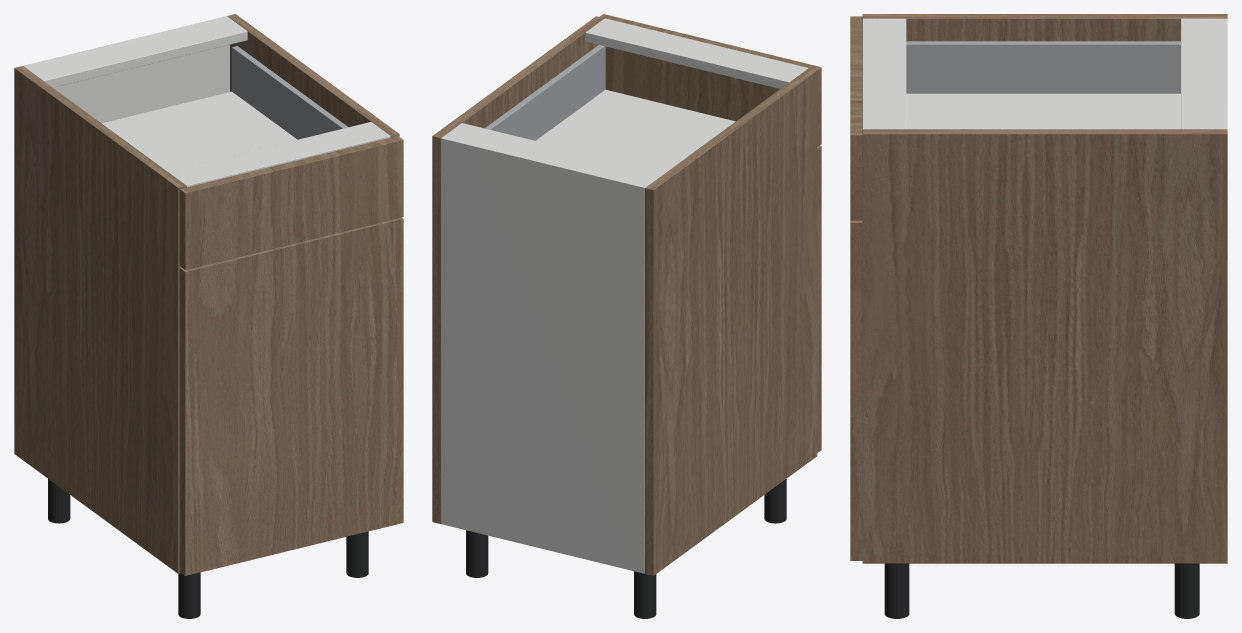
File: oppein-pb-mnw-b18.glb
The picture shows the model from 3 angles, left to right: view 1: azimuth 30°, elevation 25°; view 2: azimuth 150°, elevation 25°; view 3: azimuth 270°, elevation 25°; orthographic projection. The views are drawn at different scales.
Parts seen in each view (by area): view 1: Door, Cabinet side, Drawer front, Drawer floor, Cabinet back, Top support rail, Drawer side.001, Top support rail.001, Cabinet side.001, Adjustable foot.001, Adjustable foot.003, Adjustable foot; view 2: Cabinet back, Cabinet side, Drawer floor, Drawer front, Cabinet side.001, Top support rail.001, Drawer side.001, Top support rail, Cabinet bottom, Door, Adjustable foot, Adjustable foot.002 (+1 smaller); view 3: Cabinet side.001, Drawer side, Drawer floor, Cabinet side, Top support rail.001, Top support rail, Door, Drawer front, Adjustable foot.002, Adjustable foot.003, Cabinet back.
Boxes of the visible parts, x1=… form: Door: x1=179, y1=217, x2=403, y2=575; Cabinet side: x1=14, y1=66, x2=186, y2=573; Drawer front: x1=179, y1=136, x2=403, y2=269; Drawer floor: x1=102, y1=91, x2=297, y2=171; Cabinet back: x1=23, y1=16, x2=229, y2=123; Top support rail: x1=25, y1=18, x2=247, y2=87; Drawer side.001: x1=232, y1=46, x2=348, y2=139; Top support rail.001: x1=167, y1=122, x2=390, y2=187; Cabinet side.001: x1=227, y1=14, x2=399, y2=137; Adjustable foot.001: x1=178, y1=572, x2=200, y2=618; Adjustable foot.003: x1=346, y1=531, x2=368, y2=577; Adjustable foot: x1=48, y1=479, x2=70, y2=523; Cabinet back: x1=441, y1=136, x2=647, y2=573; Cabinet side: x1=645, y1=68, x2=817, y2=575; Drawer floor: x1=536, y1=89, x2=735, y2=172; Drawer front: x1=599, y1=14, x2=821, y2=146; Cabinet side.001: x1=432, y1=16, x2=604, y2=523; Top support rail.001: x1=585, y1=18, x2=808, y2=88; Drawer side.001: x1=485, y1=45, x2=605, y2=140; Top support rail: x1=444, y1=123, x2=665, y2=185; Cabinet bottom: x1=441, y1=517, x2=644, y2=573; Door: x1=817, y1=145, x2=821, y2=452; Adjustable foot: x1=634, y1=571, x2=656, y2=618; Adjustable foot.002: x1=466, y1=530, x2=488, y2=577; Cabinet side.001: x1=862, y1=129, x2=1227, y2=563; Drawer side: x1=906, y1=41, x2=1180, y2=93; Drawer floor: x1=906, y1=93, x2=1180, y2=129; Cabinet side: x1=862, y1=14, x2=1227, y2=41; Top support rail.001: x1=862, y1=18, x2=906, y2=129; Top support rail: x1=1181, y1=18, x2=1220, y2=129; Door: x1=850, y1=220, x2=862, y2=560; Drawer front: x1=850, y1=16, x2=862, y2=220; Adjustable foot.002: x1=1174, y1=563, x2=1199, y2=618; Adjustable foot.003: x1=884, y1=563, x2=909, y2=618; Cabinet back: x1=1220, y1=18, x2=1227, y2=129.
Bounding box in the file's own units: 0.4572 × 0.8763 × 0.6064.
4 materials, 1 textured.
